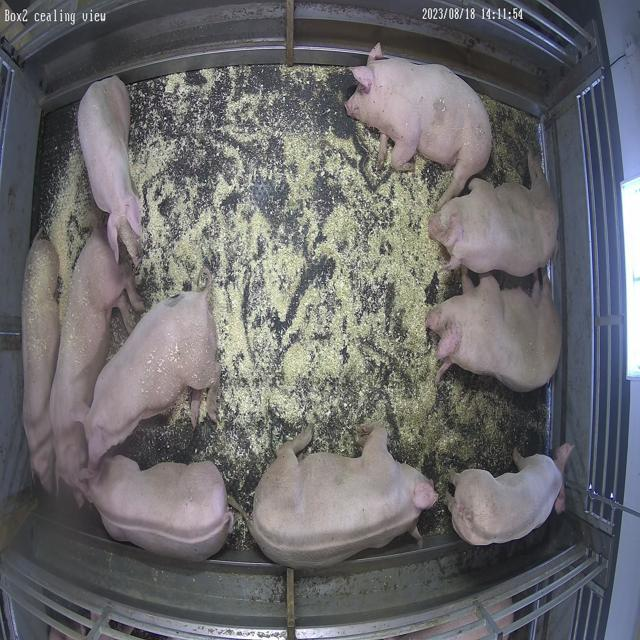Dirt: (403, 368, 549, 536)
Pig: (249, 425, 438, 570), (84, 270, 219, 472), (49, 225, 144, 502), (346, 43, 493, 208), (427, 271, 562, 392), (429, 153, 560, 276), (89, 456, 234, 562), (78, 76, 142, 264), (449, 451, 565, 546), (22, 231, 59, 492)
